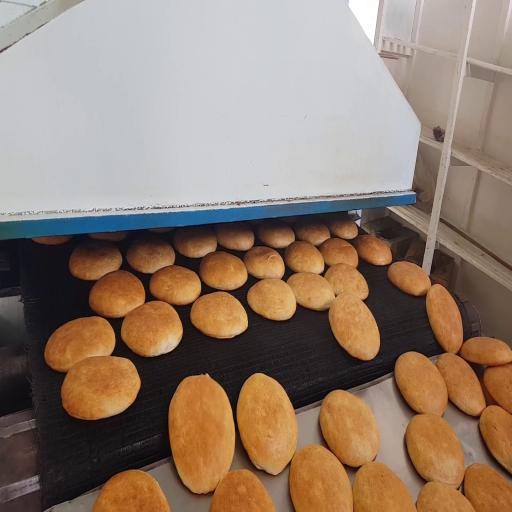bread: (169, 375, 235, 493), (237, 374, 298, 475), (61, 357, 140, 420), (320, 390, 379, 467), (406, 414, 465, 487), (290, 445, 353, 511), (45, 317, 115, 372), (329, 293, 380, 360), (121, 301, 183, 356), (395, 352, 447, 416), (93, 470, 170, 511), (436, 353, 486, 416), (353, 462, 415, 511), (210, 469, 275, 511), (89, 270, 145, 318), (191, 292, 247, 338), (427, 284, 463, 353), (464, 464, 511, 511), (479, 406, 511, 474), (69, 241, 122, 280), (247, 278, 296, 320), (150, 266, 201, 305), (199, 252, 247, 290), (287, 273, 334, 310), (127, 238, 175, 274), (417, 482, 474, 511), (325, 264, 368, 300), (388, 261, 431, 296), (461, 337, 511, 365), (484, 364, 511, 413), (174, 227, 216, 258), (285, 241, 324, 274), (244, 247, 284, 278), (214, 222, 254, 251), (354, 235, 392, 265), (320, 238, 358, 267), (257, 220, 295, 248), (295, 221, 330, 246), (327, 218, 358, 239), (89, 231, 127, 241), (32, 236, 72, 245), (278, 216, 300, 224), (148, 228, 174, 233)
